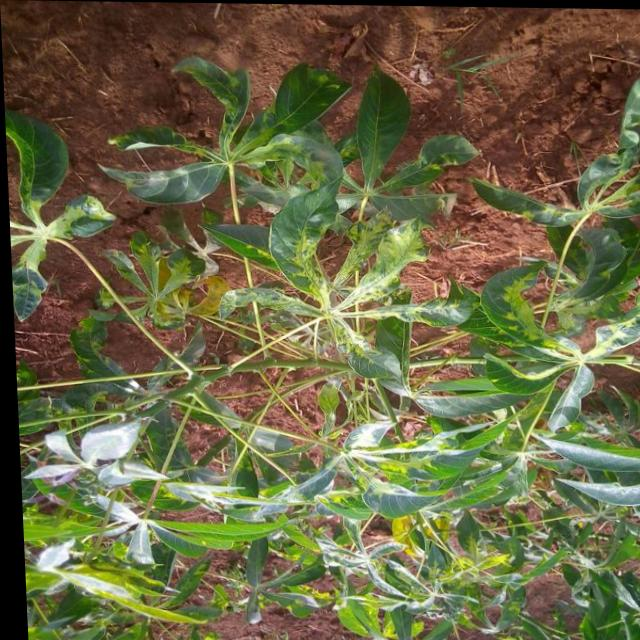Mosaico: (229, 225, 418, 386), (128, 56, 336, 192)
